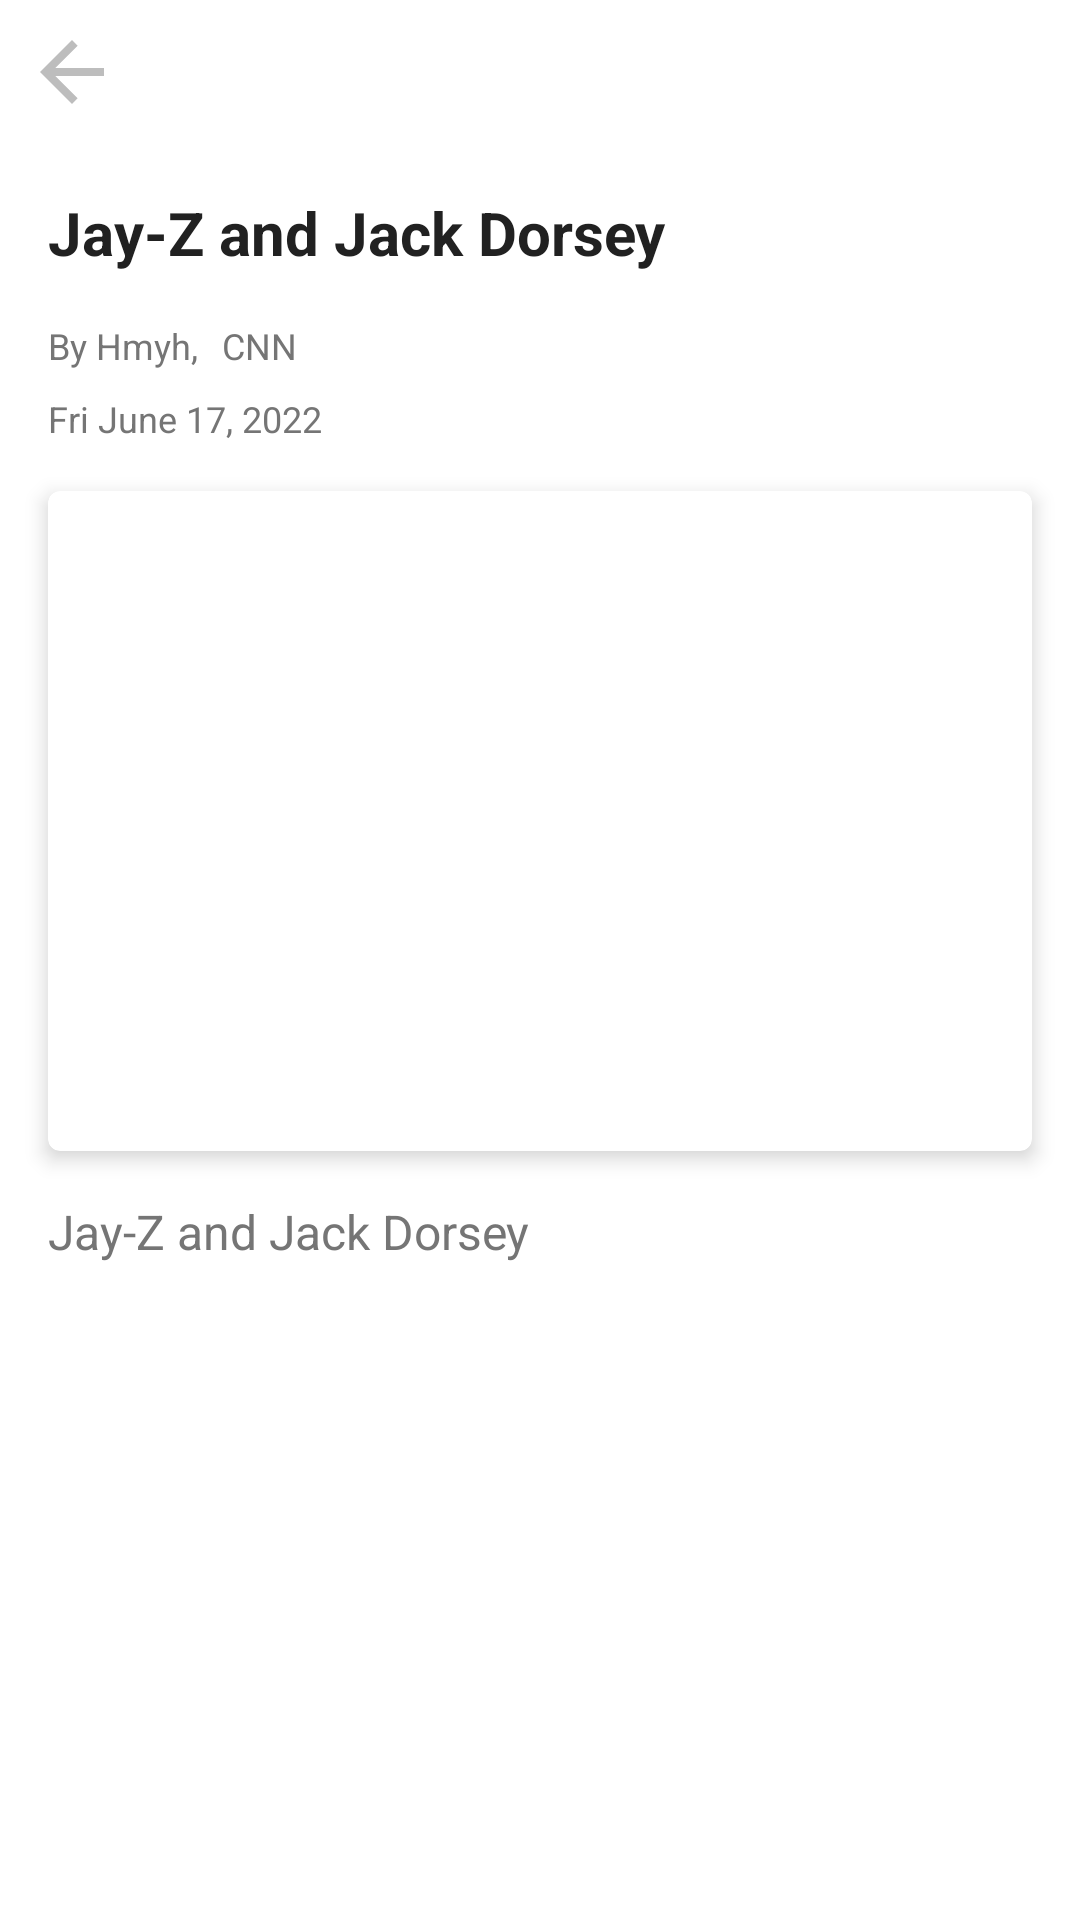

Screen size 1080 × 1920. Icon name, then its center in pixels as (x=x, y=y):
arrow back: (x=72, y=72)
